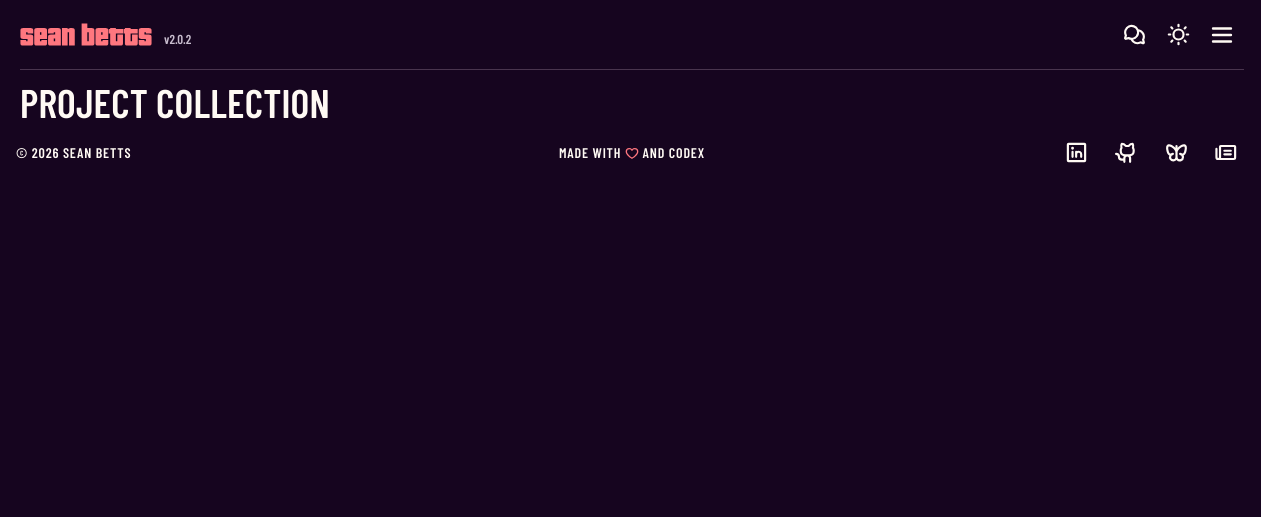
activating the current route /building through Building closes navigation and focuses content
Click the button named "Open navigation": click(1222, 34) [1200,12,1244,56]
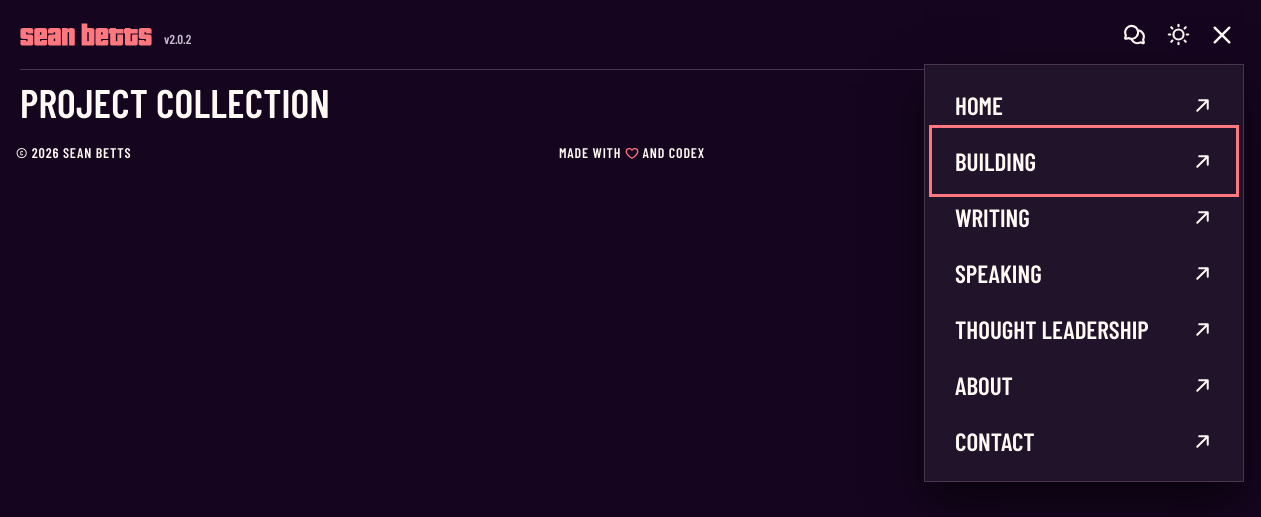
Click the link "Building": click(996, 161) [955,146,1213,176]
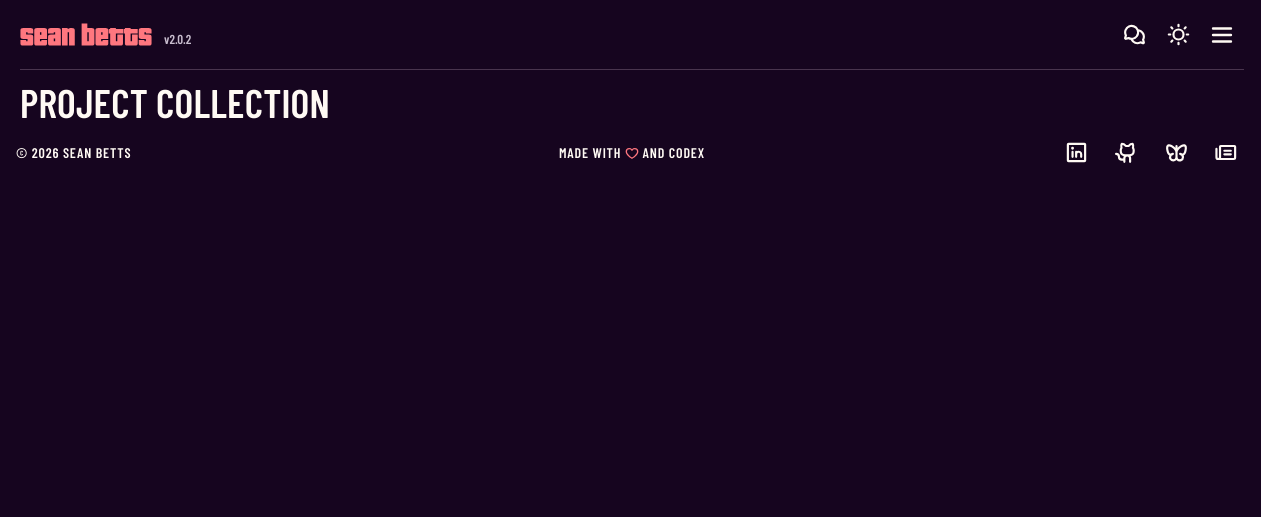
Now the button named "Open navigation" is collapsed, box [1200,12,1244,56]
